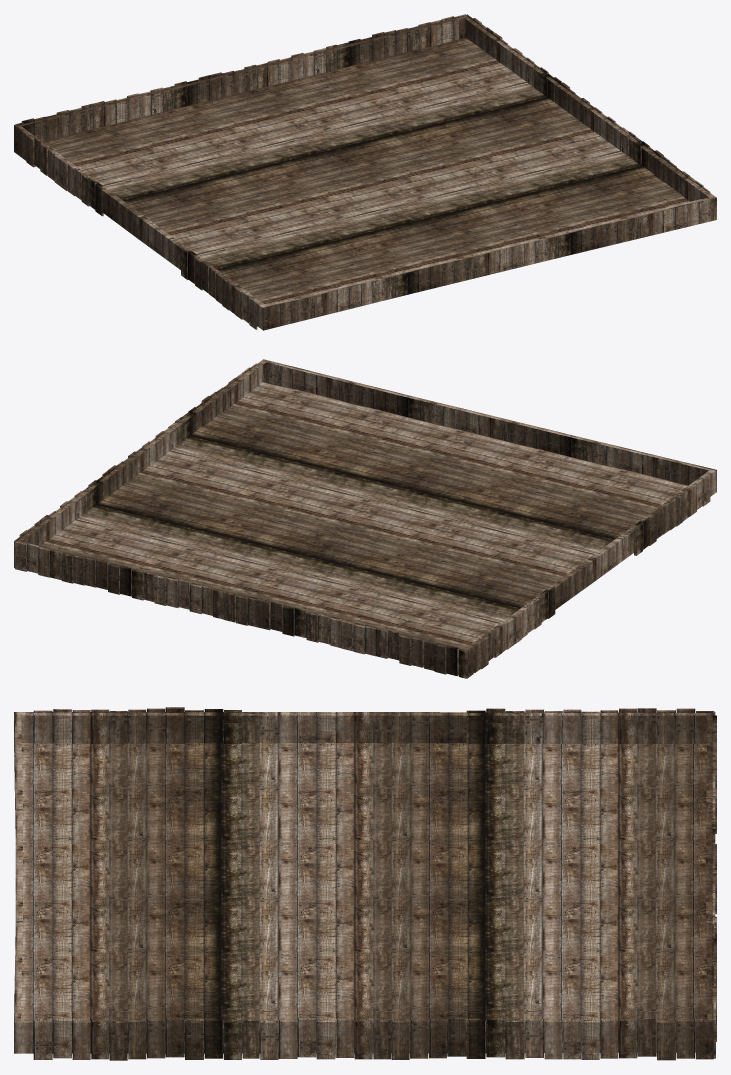
Rendered from cabinBase_01_LOD0.FBX.
3 renders of one model, top to bottom at view 1: azimuth 30°, elevation 25°; view 2: azimuth 150°, elevation 25°; view 3: azimuth 270°, elevation 25°, orthographic. The views are drawn at different scales.
Visible parts, largest first — view 1: cabinBase_01_LOD0; view 2: cabinBase_01_LOD0; view 3: cabinBase_01_LOD0.
Part boxes in pixels (<box>): cabinBase_01_LOD0: <box>14,14,716,330</box>; cabinBase_01_LOD0: <box>14,359,716,678</box>; cabinBase_01_LOD0: <box>14,707,716,1060</box>.
Bounding box in the file's own units: 43.29 × 2.69 × 41.2.
Materials: 1 (1 with a texture image).
